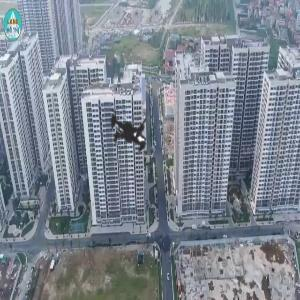drone: (59, 60, 211, 212)
